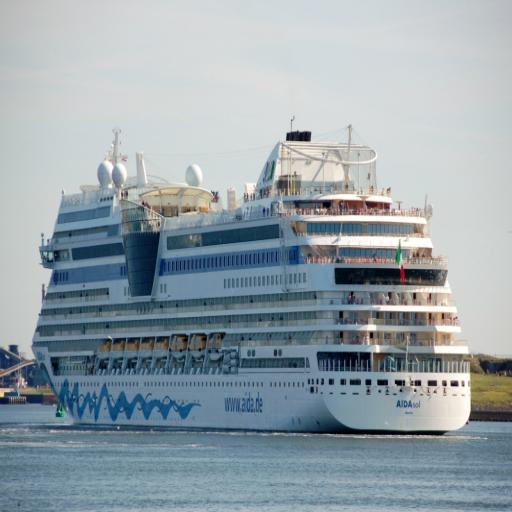cruises: (31, 124, 477, 441)
